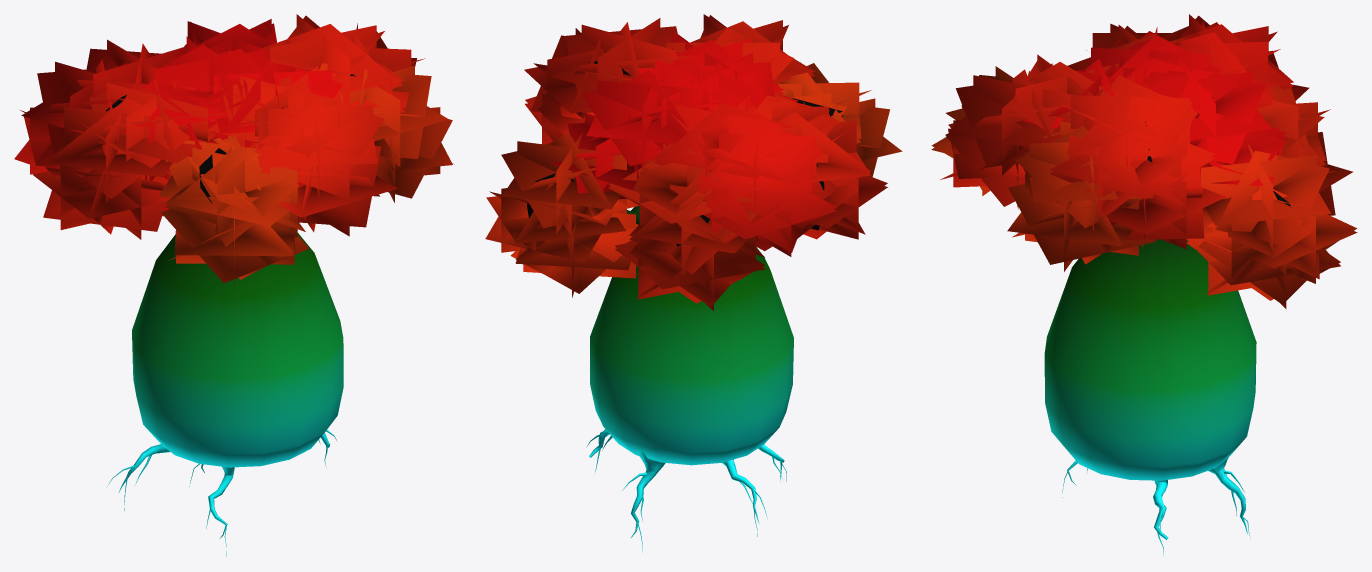
Rendered from Baobab6.fbx.
3 views of the same model, side by side, from view 1: azimuth 30°, elevation 25°; view 2: azimuth 150°, elevation 25°; view 3: azimuth 270°, elevation 25° (orthographic). The views are drawn at different scales.
Parts seen in each view (by area): view 1: Baobab6_LOD0; view 2: Baobab6_LOD0; view 3: Baobab6_LOD0.
Boxes of the visible parts, <box> form: Baobab6_LOD0: <box>14,14,454,556</box>; Baobab6_LOD0: <box>485,14,902,552</box>; Baobab6_LOD0: <box>931,14,1357,555</box>.
Size of what is drawn, in the model's own units: 932 by 1203 by 938.
